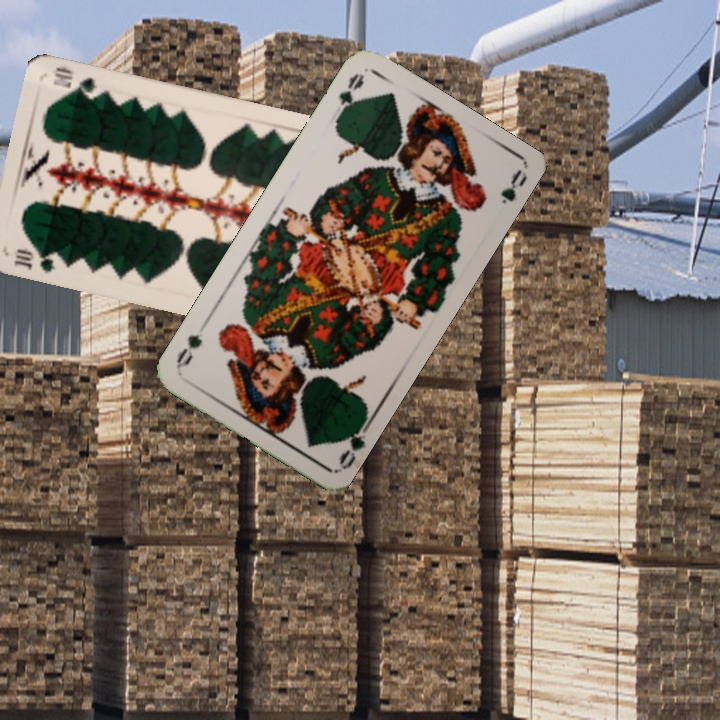G10: (9, 244, 66, 276)
GO: (335, 414, 375, 471), (332, 69, 367, 124)
